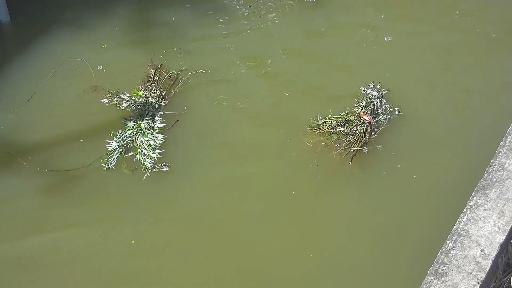twig: (84, 58, 194, 184), (306, 70, 398, 160)
